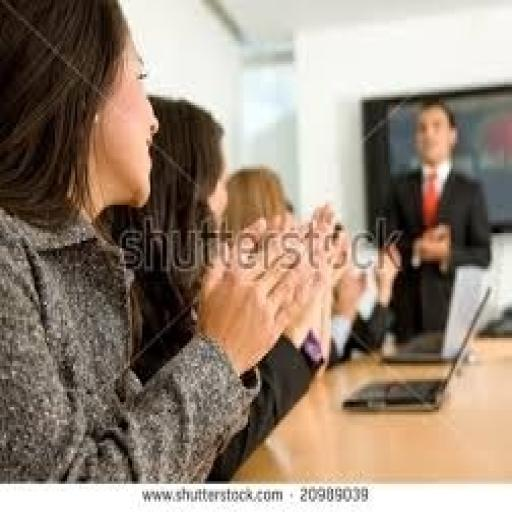clapping: (0, 0, 347, 484), (378, 97, 494, 348)
